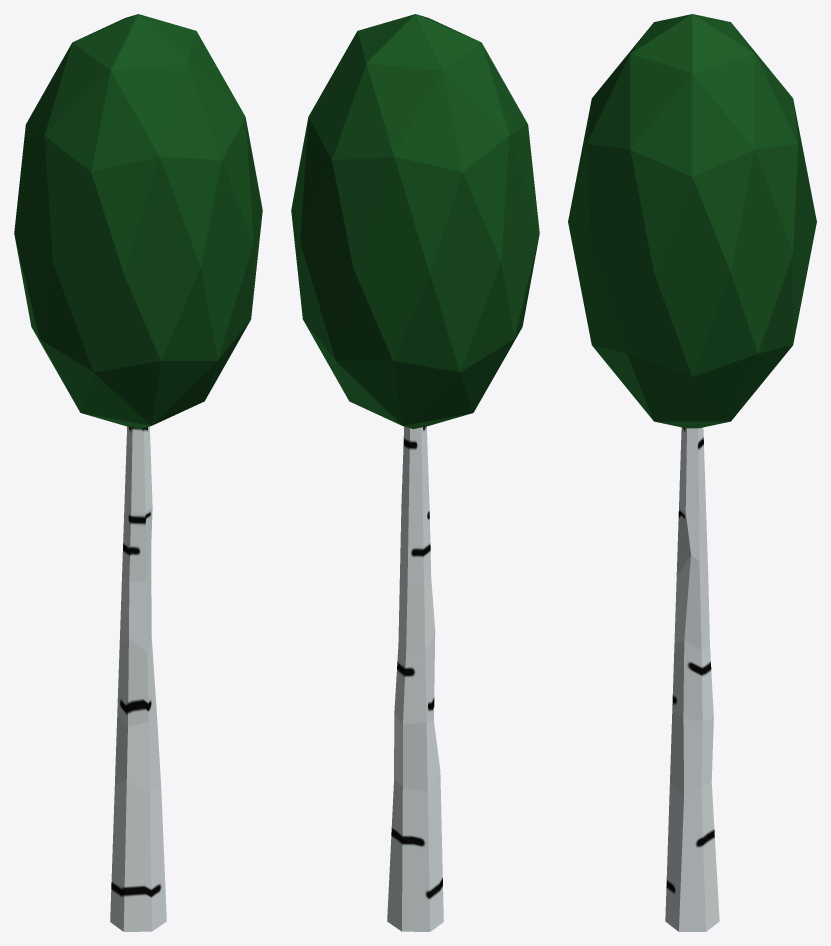
File: birch01__mesh_LOD.fbx
The picture shows the model from 3 angles, left to right: view 1: azimuth 30°, elevation 25°; view 2: azimuth 150°, elevation 25°; view 3: azimuth 270°, elevation 25°; orthographic projection.
Visible parts, largest first — view 1: birch01__mesh_LOD0; view 2: birch01__mesh_LOD0; view 3: birch01__mesh_LOD0.
Boxes of the visible parts, bbox=[...] form: birch01__mesh_LOD0: bbox=[14, 14, 262, 931]; birch01__mesh_LOD0: bbox=[291, 14, 539, 931]; birch01__mesh_LOD0: bbox=[568, 14, 816, 931].
Size of what is drawn, in the model's own units: 1121 by 4628 by 1151.
1 material, 1 textured.
